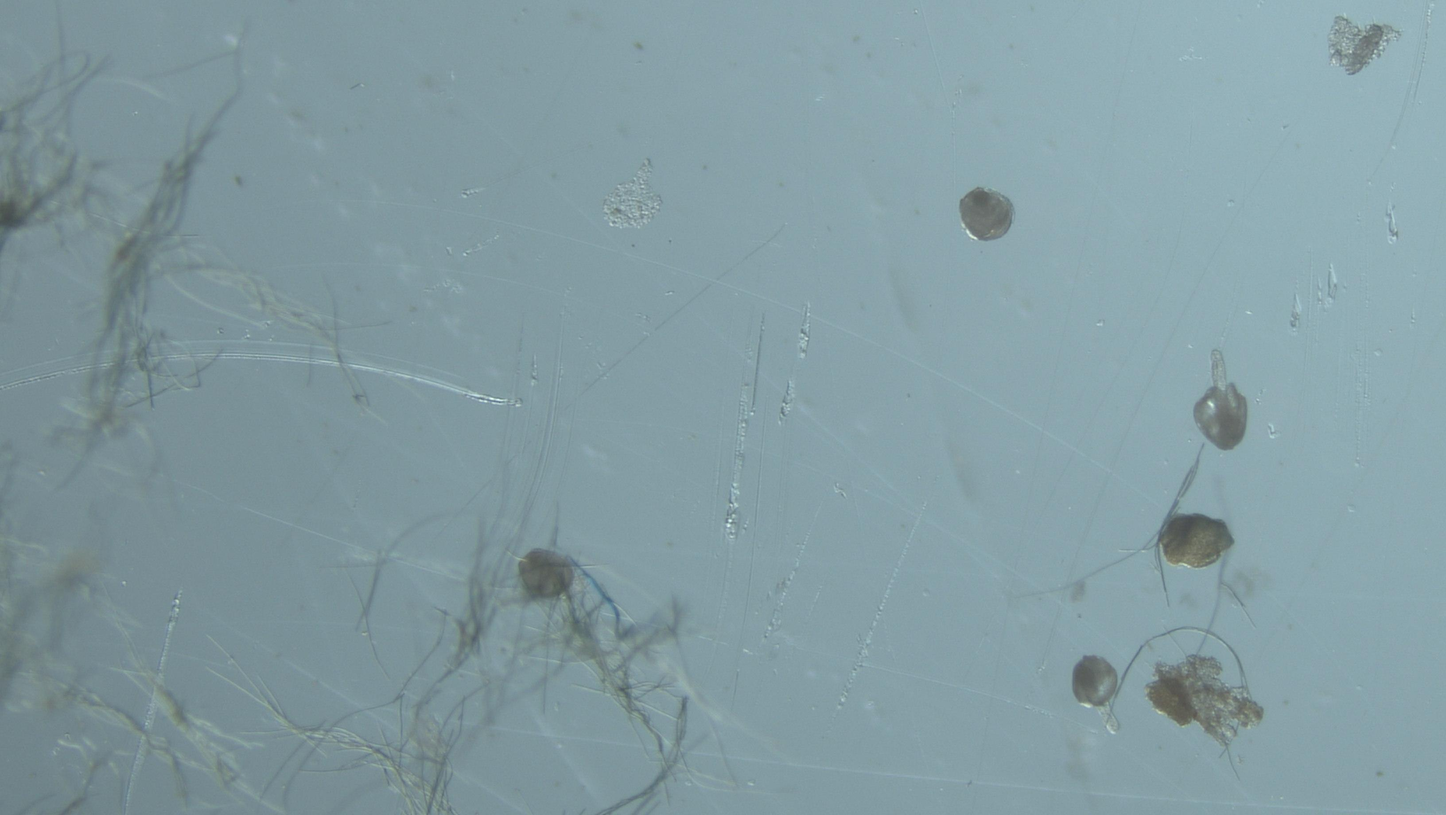live: (1193, 349, 1249, 451), (1160, 514, 1234, 569), (1072, 655, 1120, 734), (959, 187, 1015, 241)
